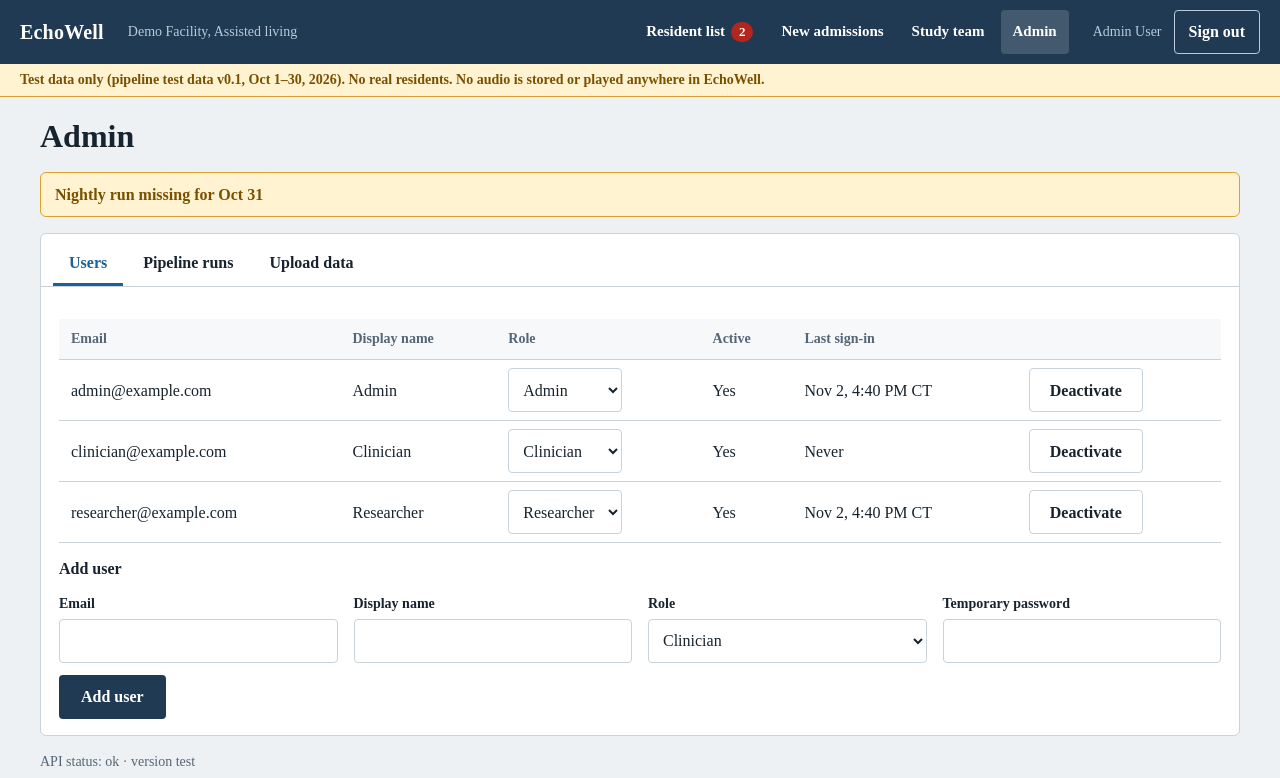
/admin › Users › maps errors[] to fields and other errors above the button
The width and height of the screenshot is (1280, 778).
Type "x@example.com" into the field labelled "Email" at (198,641), box [59,619,338,663]
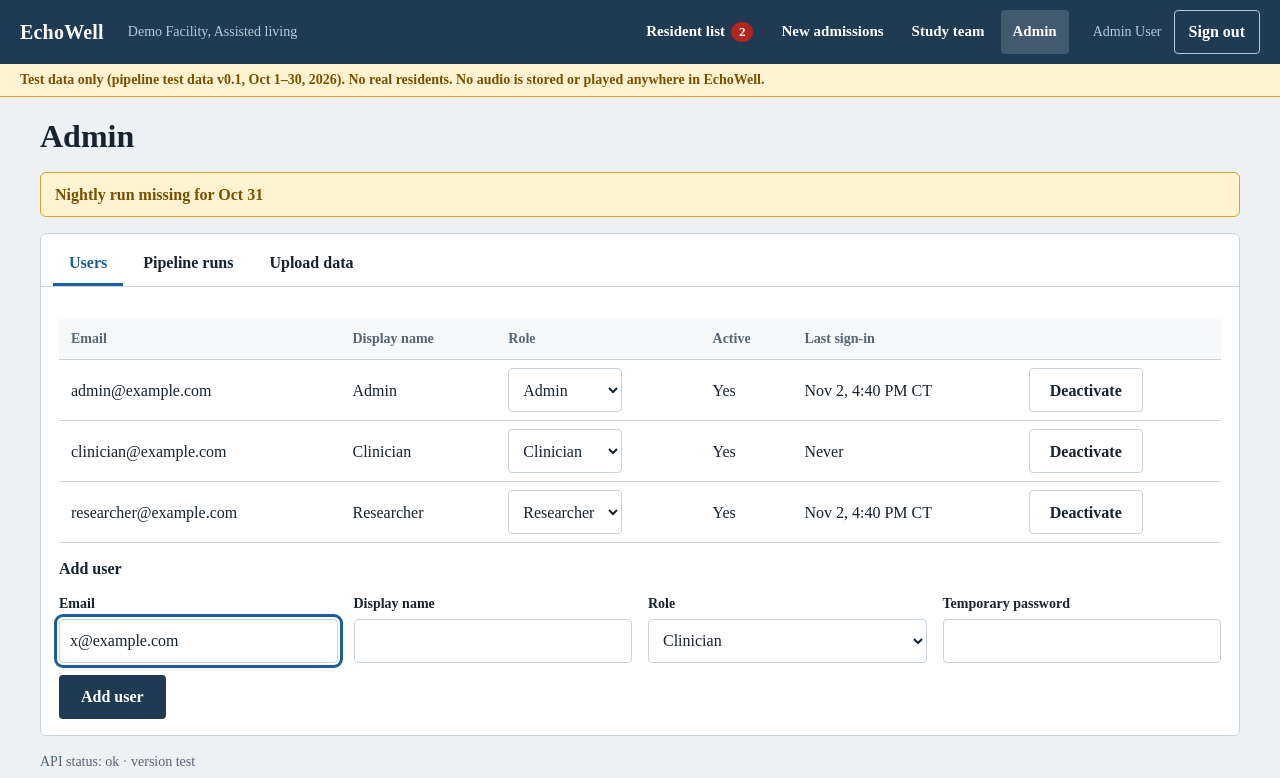
Type "New User" into the field labelled "Display name" at (493,641), box [354,619,632,663]
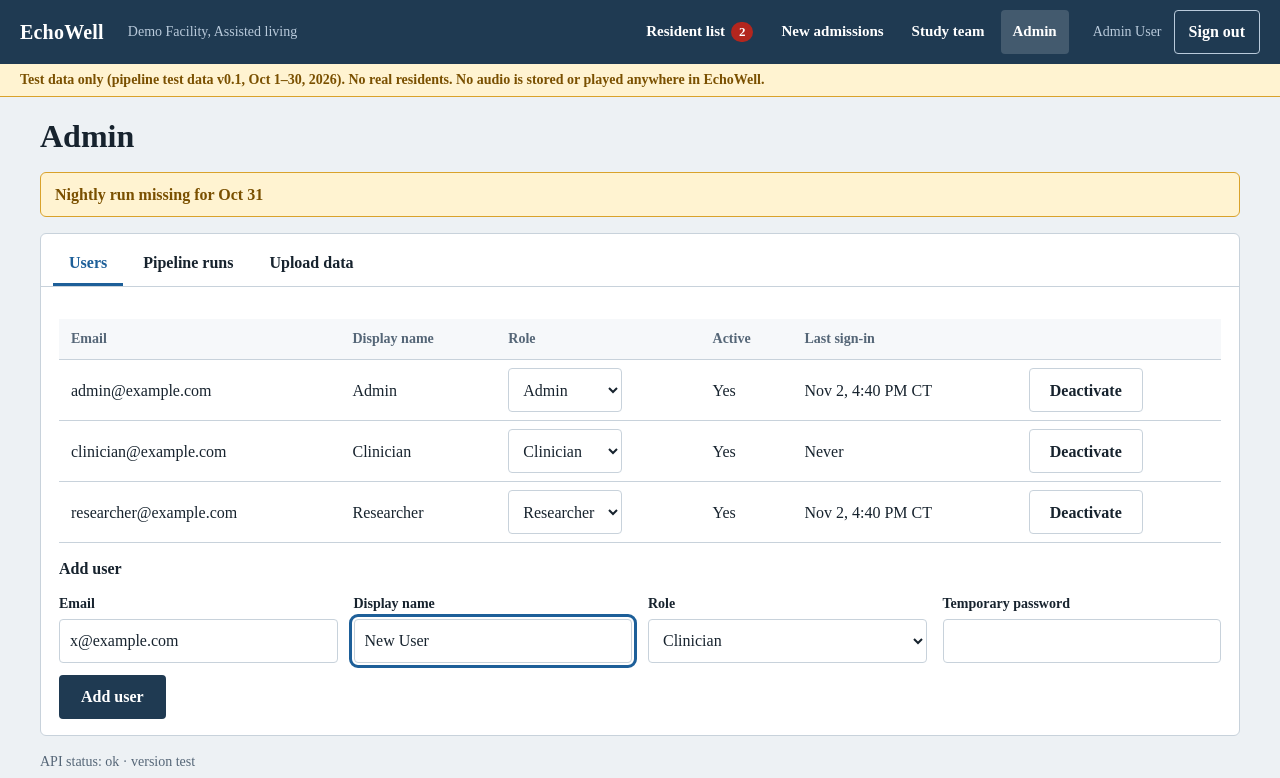
Select "Researcher" in the dropdown labelled "Role" at (787,641), box [648,619,926,663]
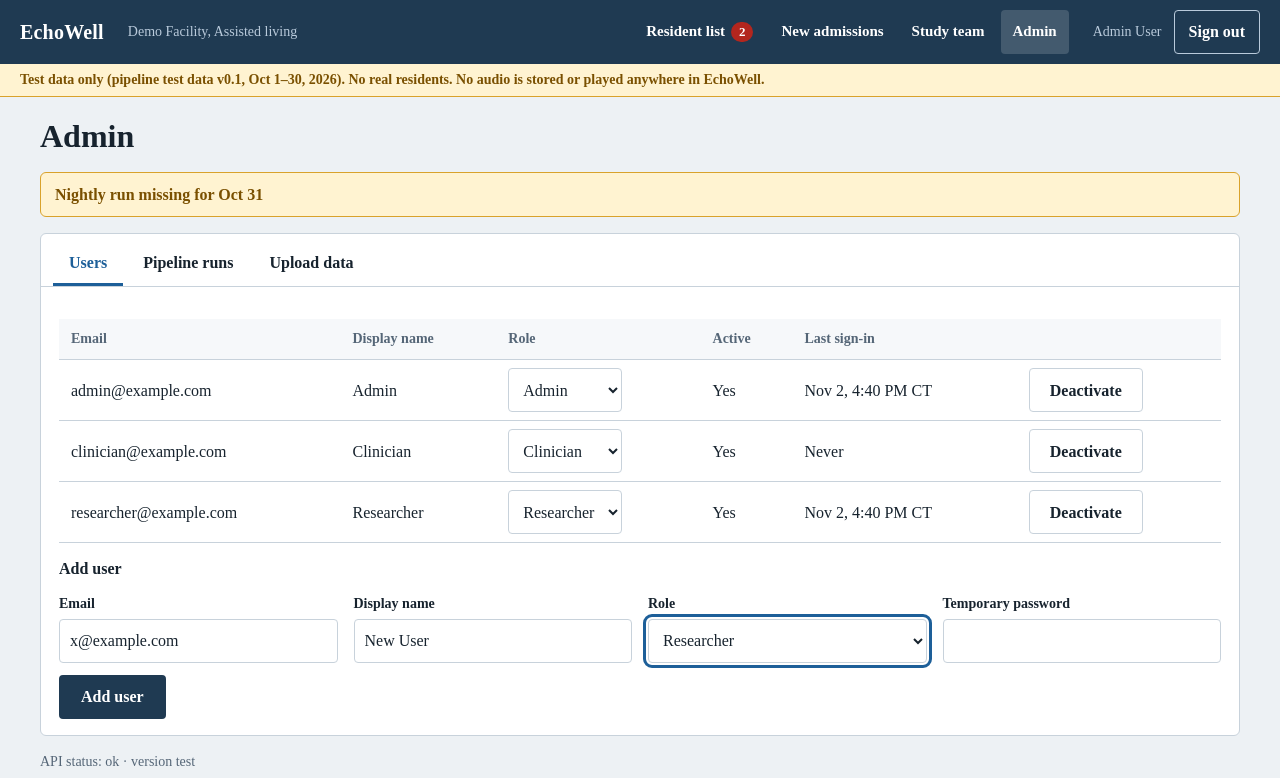
Type "a-long-temp-password" into the password field labelled "Temporary password" at (1082,641), box [942,619,1221,663]
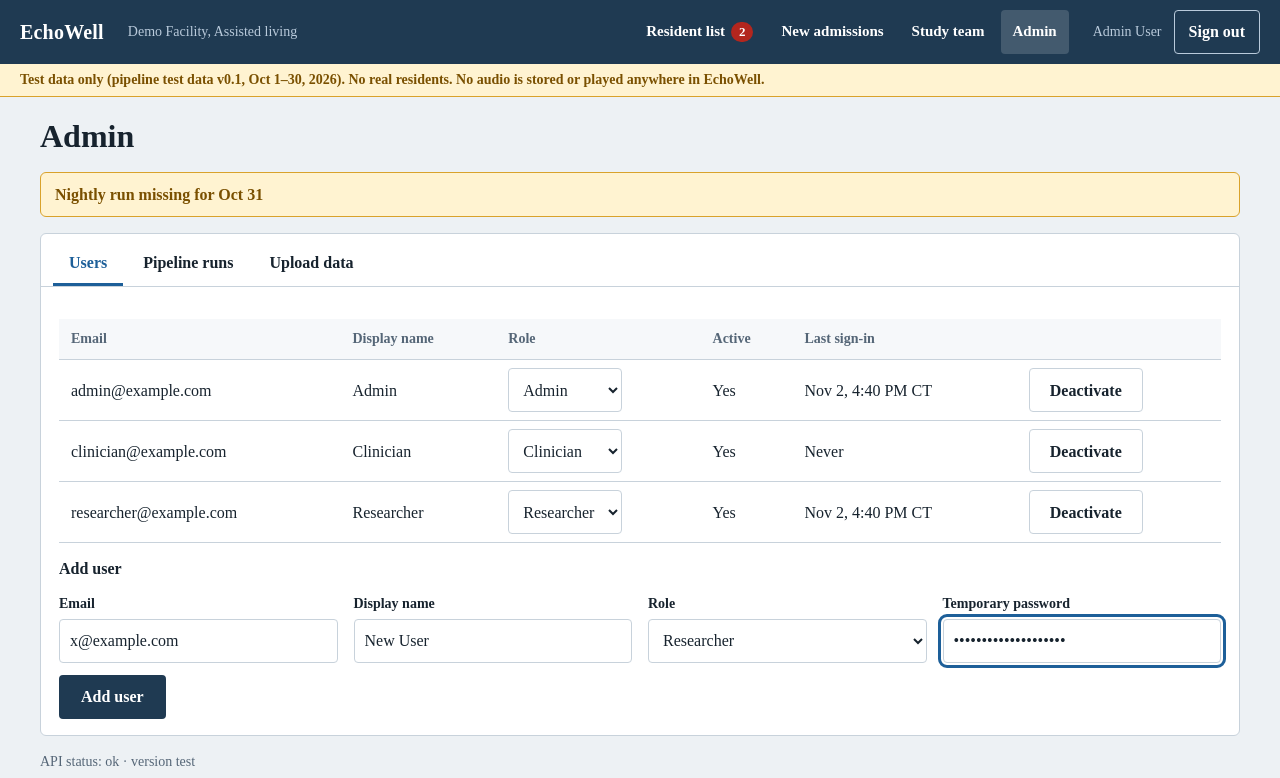
Click the button "Add user" at (112,697), box [59,675,166,719]
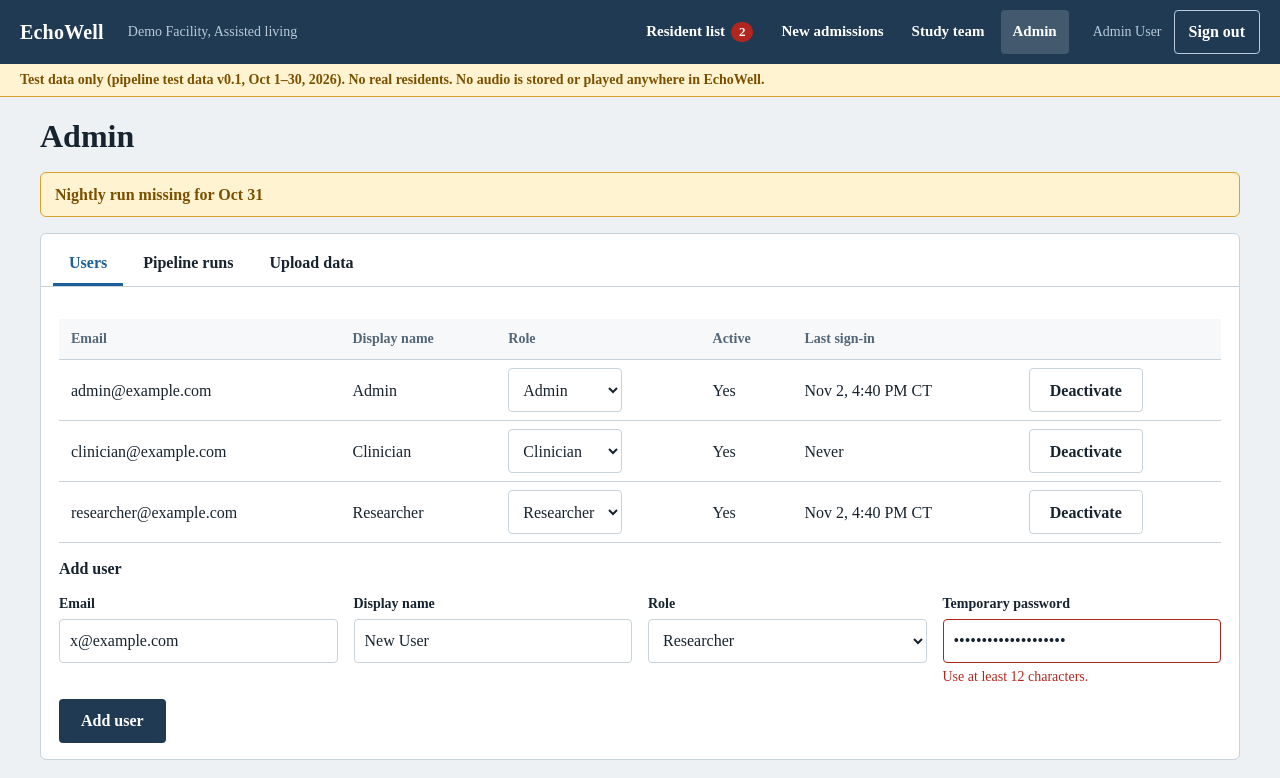
expect the text "Use at least 12 characters." is shown: met, box [942,669,1088,684]
Click the button "Add user" at (112,721), box [59,699,166,743]
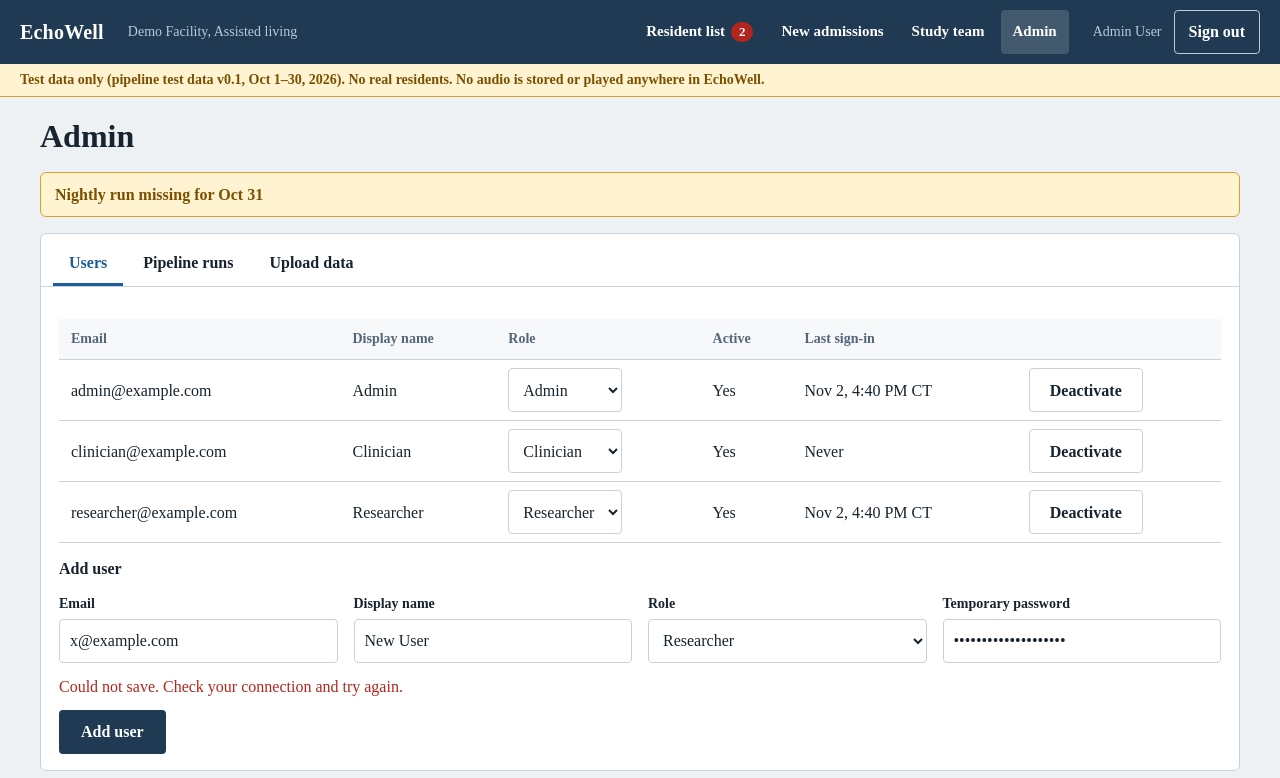
expect the text "Could not save. Check your connection and try again." is shown: met, box [59,678,403,695]
